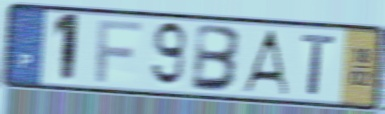1: (50, 12, 81, 87)
9: (147, 20, 189, 91)
A: (238, 28, 291, 97)
B: (189, 21, 245, 94)
F: (93, 18, 143, 85)
T: (299, 31, 338, 98)
